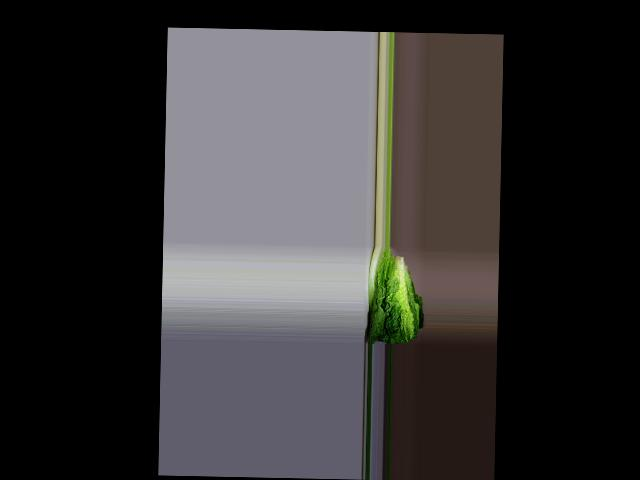lettuce: (364, 250, 418, 345)
